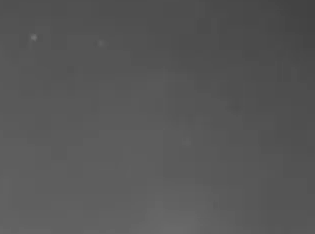Target: (32, 35, 37, 41)
